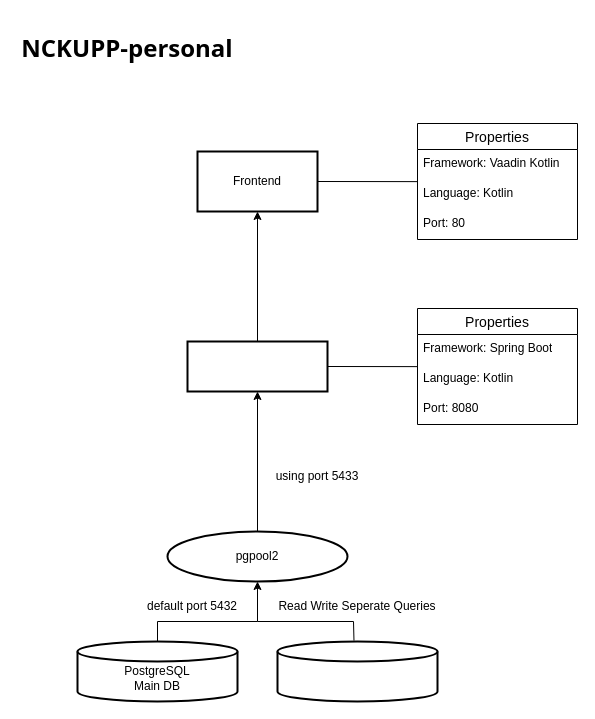
Image size: 595x719. Some labels were removed from this diagram. The box of each missing label's shape, as (x1, y1, x2, y2) in pixels:
Backend: (186, 340, 328, 392)
PostgreSQL backup DB: (276, 640, 438, 702)
